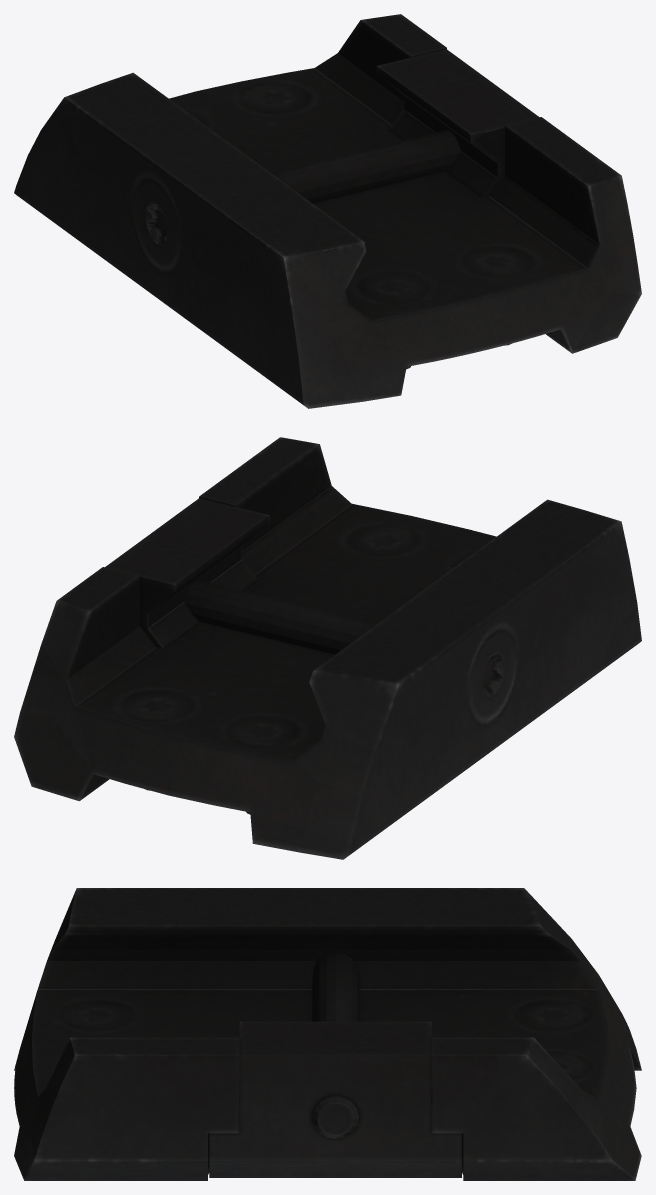
3 views of the same model, one above another, from view 1: azimuth 30°, elevation 25°; view 2: azimuth 150°, elevation 25°; view 3: azimuth 270°, elevation 25° (orthographic). The views are drawn at different scales.
Visible parts, largest first — view 1: TW_616554fe50224f204c1da2aa_PZ_Import; view 2: TW_616554fe50224f204c1da2aa_PZ_Import; view 3: TW_616554fe50224f204c1da2aa_PZ_Import.
Boxes of the visible parts, x1=… form: TW_616554fe50224f204c1da2aa_PZ_Import: x1=14, y1=14, x2=641, y2=408; TW_616554fe50224f204c1da2aa_PZ_Import: x1=14, y1=437, x2=641, y2=859; TW_616554fe50224f204c1da2aa_PZ_Import: x1=14, y1=888, x2=641, y2=1180.
Size of the model in its own units: 0.0181 by 0.028 by 0.00718.
1 material, 1 textured.
